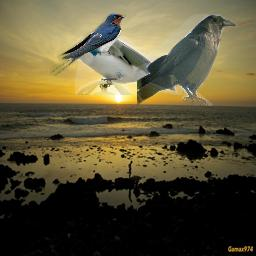Crow: (137, 14, 238, 106)
Swallow: (75, 36, 183, 95), (50, 13, 126, 76)
